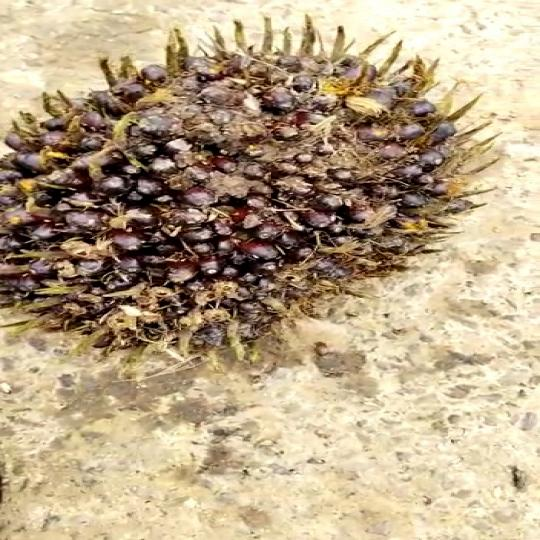kurang masak: (0, 23, 540, 379)
